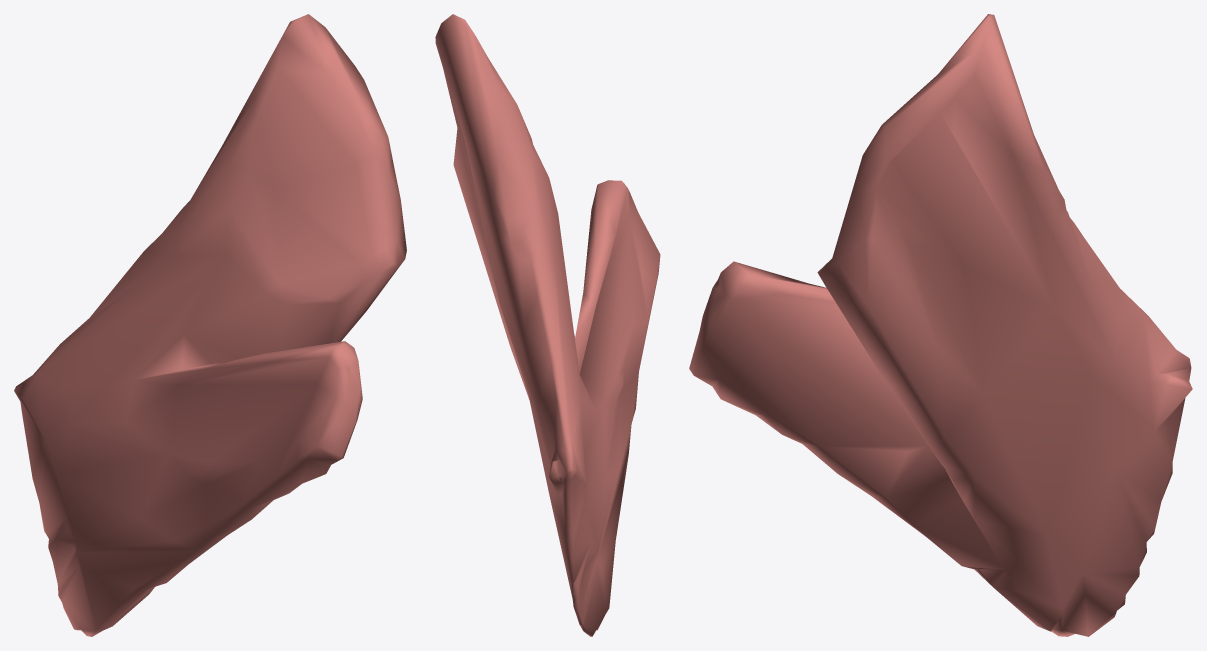
3 renders of one model, left to right at view 1: azimuth 30°, elevation 25°; view 2: azimuth 150°, elevation 25°; view 3: azimuth 270°, elevation 25°, orthographic. The views are drawn at different scales.
Parts seen in each view (by area): view 1: ZA_68c1bc357201e564; view 2: ZA_68c1bc357201e564; view 3: ZA_68c1bc357201e564.
Boxes of the visible parts, x1=… form: ZA_68c1bc357201e564: x1=14, y1=14, x2=406, y2=636; ZA_68c1bc357201e564: x1=435, y1=14, x2=660, y2=636; ZA_68c1bc357201e564: x1=689, y1=14, x2=1192, y2=636.
Size of the model in its own units: 0.0225 by 0.0492 by 0.0307.
